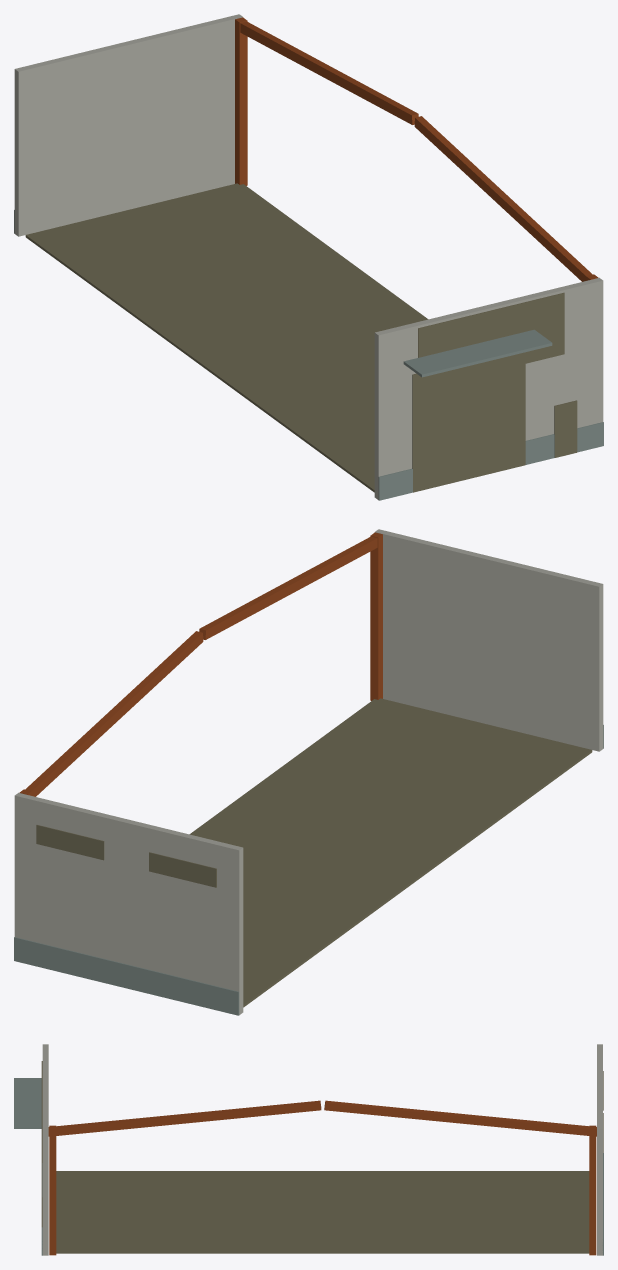
File: SM_NavePoligono_Modulo_e3_Quemada_LOD0.fbx
3 renders of one model, top to bottom at view 1: azimuth 30°, elevation 25°; view 2: azimuth 150°, elevation 25°; view 3: azimuth 270°, elevation 25°, orthographic. The views are drawn at different scales.
Parts seen in each view (by area): view 1: SM_nave_poligono_v3_LOD0; view 2: SM_nave_poligono_v3_LOD0; view 3: SM_nave_poligono_v3_LOD0.
Part boxes in pixels (left/top/right/bottom): SM_nave_poligono_v3_LOD0: left=14, top=14, right=603, bottom=500; SM_nave_poligono_v3_LOD0: left=14, top=529, right=603, bottom=1015; SM_nave_poligono_v3_LOD0: left=14, top=1044, right=603, bottom=1255.
Bounding box in the file's own units: 9.98 × 8.39 × 29.49.
